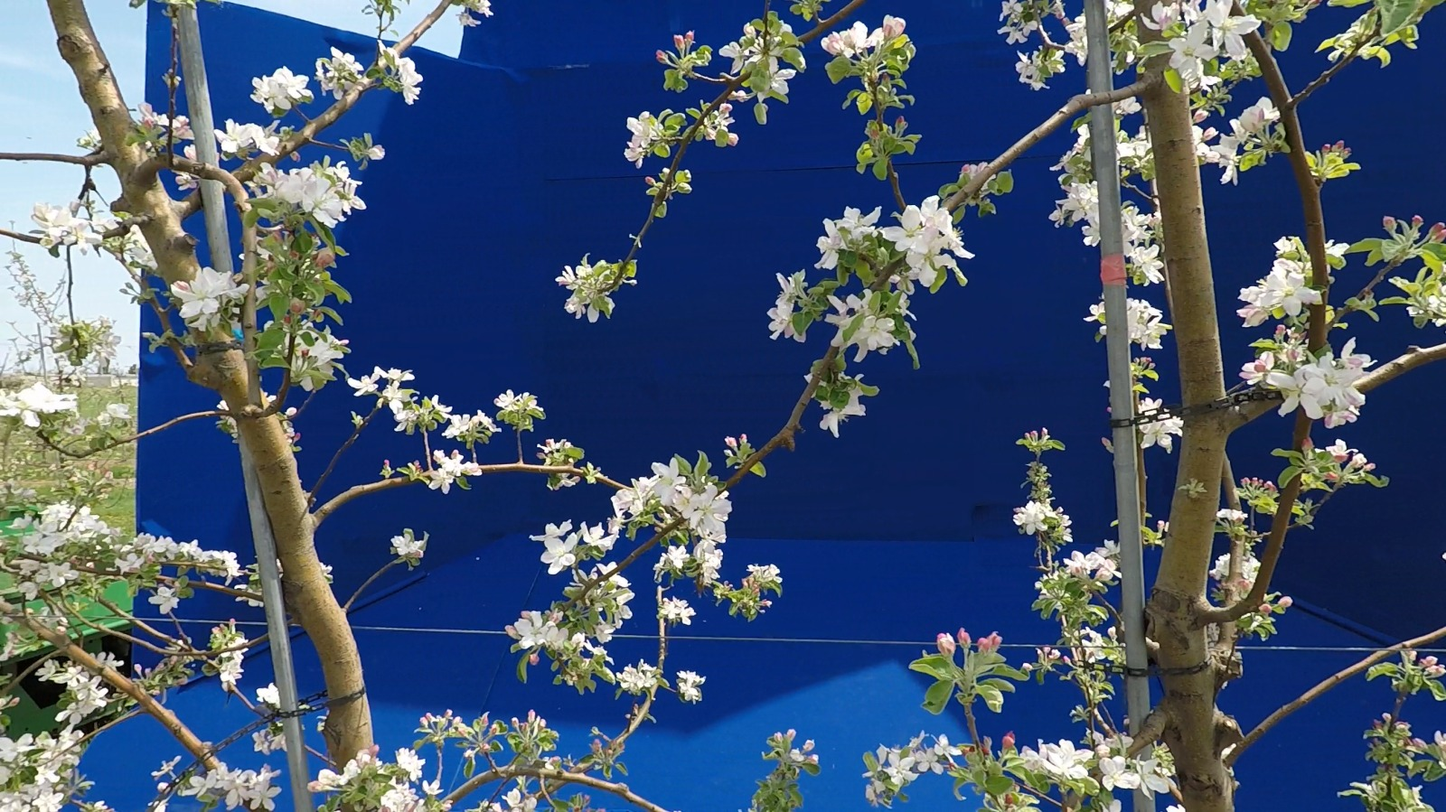flower: (583, 458, 733, 588), (815, 195, 975, 287), (296, 336, 420, 432), (1141, 0, 1262, 97), (1266, 338, 1392, 429), (1192, 98, 1280, 185), (259, 162, 367, 229), (121, 533, 243, 585), (1237, 258, 1323, 327), (9, 500, 111, 557), (825, 289, 900, 363), (1014, 725, 1100, 788), (36, 659, 108, 733), (877, 735, 965, 794), (171, 265, 249, 331), (183, 761, 281, 811), (514, 609, 616, 656), (0, 755, 69, 812), (1122, 199, 1165, 287), (822, 15, 906, 59), (1100, 755, 1182, 800), (1049, 181, 1102, 247), (34, 203, 107, 250), (1064, 525, 1124, 582), (767, 274, 812, 347), (432, 396, 502, 438), (378, 40, 423, 105), (251, 67, 313, 113), (0, 381, 77, 416), (530, 519, 577, 574), (214, 119, 279, 156), (1127, 299, 1173, 350), (19, 563, 80, 601), (821, 387, 866, 438), (624, 112, 664, 168), (998, 0, 1045, 46), (429, 450, 478, 494), (1014, 498, 1064, 536), (221, 649, 266, 691), (1139, 416, 1184, 454), (381, 776, 425, 812), (759, 57, 797, 96), (315, 59, 349, 100), (616, 659, 657, 691), (1063, 14, 1088, 66), (0, 734, 37, 768), (1016, 51, 1048, 90), (1117, 126, 1152, 161), (319, 760, 362, 787), (396, 749, 426, 786), (658, 596, 696, 625), (719, 39, 749, 75), (332, 48, 364, 79), (391, 529, 425, 557), (149, 584, 180, 614), (678, 671, 705, 704), (253, 729, 287, 755), (258, 684, 284, 709), (115, 554, 145, 575), (495, 390, 523, 412), (1081, 627, 1107, 647), (617, 589, 634, 619), (668, 546, 690, 569), (1116, 98, 1142, 115), (1084, 303, 1106, 322), (1139, 398, 1162, 414), (1084, 648, 1106, 664), (423, 780, 444, 796), (609, 574, 632, 588), (1106, 794, 1123, 812), (476, 0, 493, 17), (22, 411, 40, 427), (596, 562, 617, 575), (229, 636, 249, 649), (411, 389, 417, 393)
